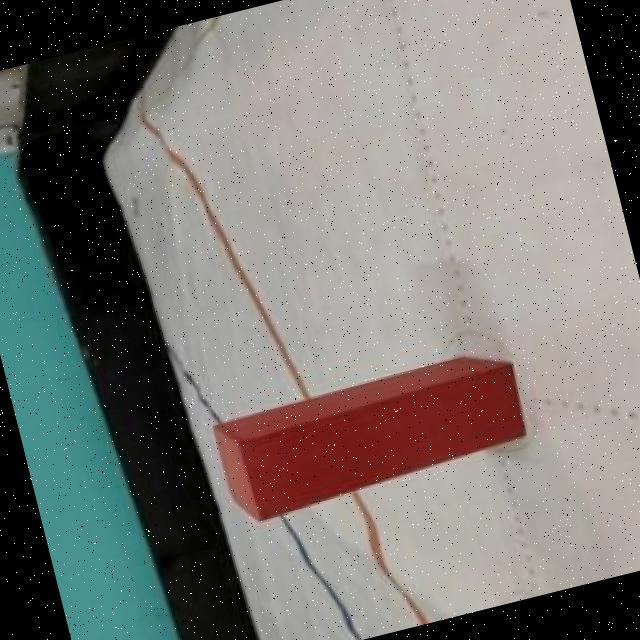redbox: (204, 342, 533, 530)
